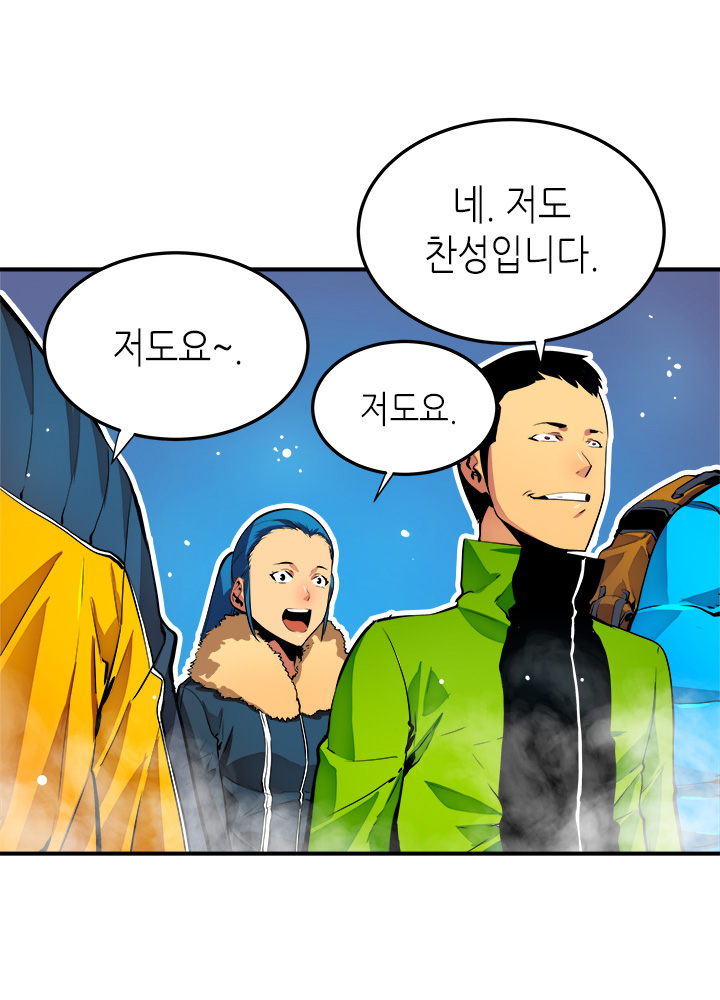dialog box: (320, 93, 697, 378), (23, 220, 320, 478), (281, 313, 521, 515)
text: (394, 149, 624, 308), (88, 297, 260, 393), (336, 369, 473, 443)
